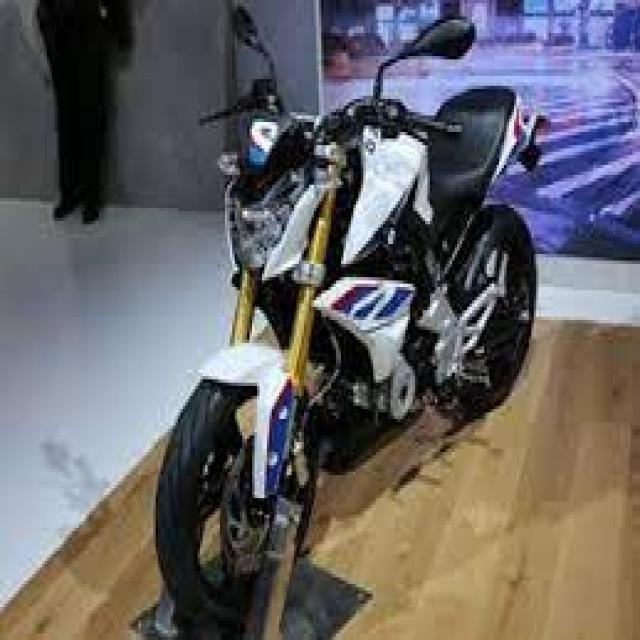Bike: (153, 3, 544, 632)
